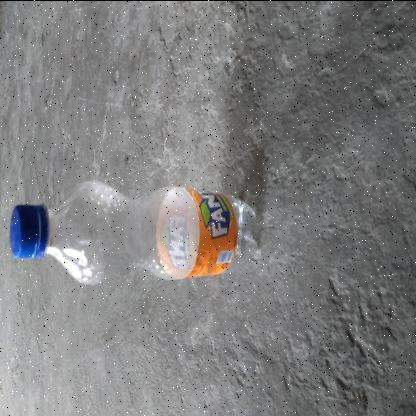Plastic Bottle: (9, 180, 259, 284)
